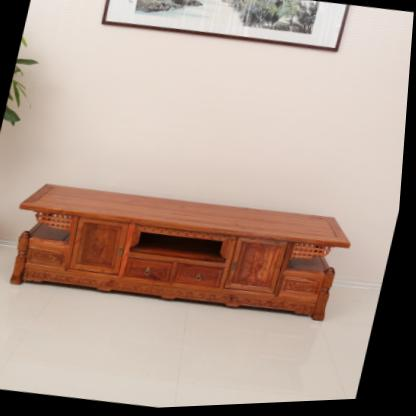Ceramic floor: (0, 281, 369, 409)
TV stand: (0, 168, 363, 342)
